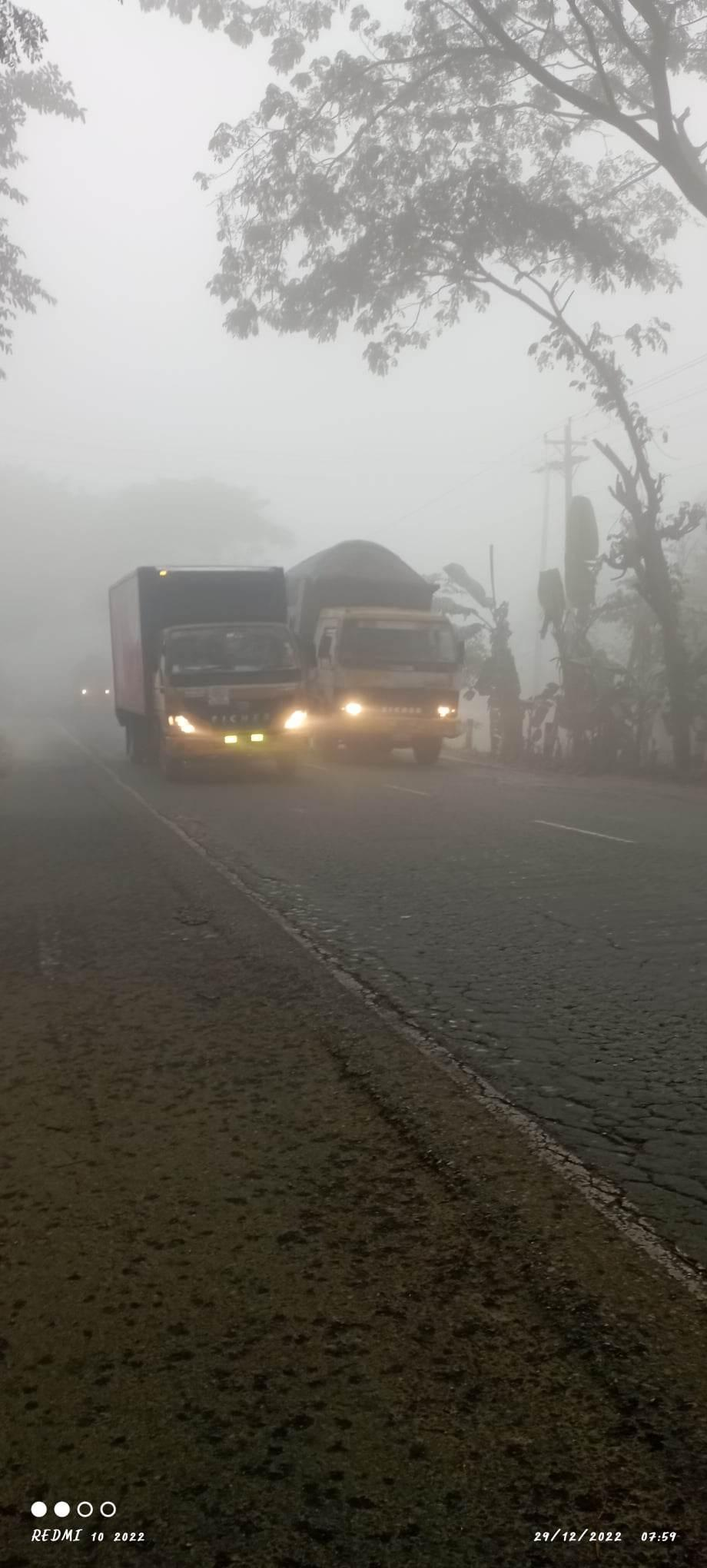Truck: (99, 556, 327, 799), (294, 532, 502, 786)
